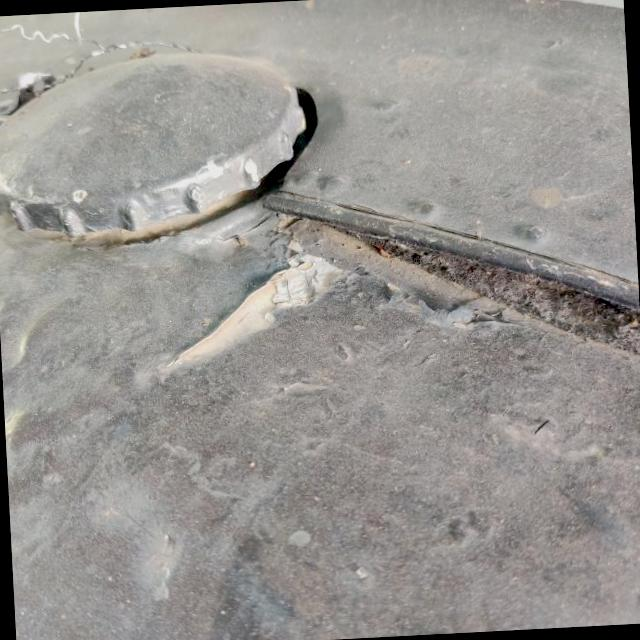paint-off: (132, 240, 358, 406)
